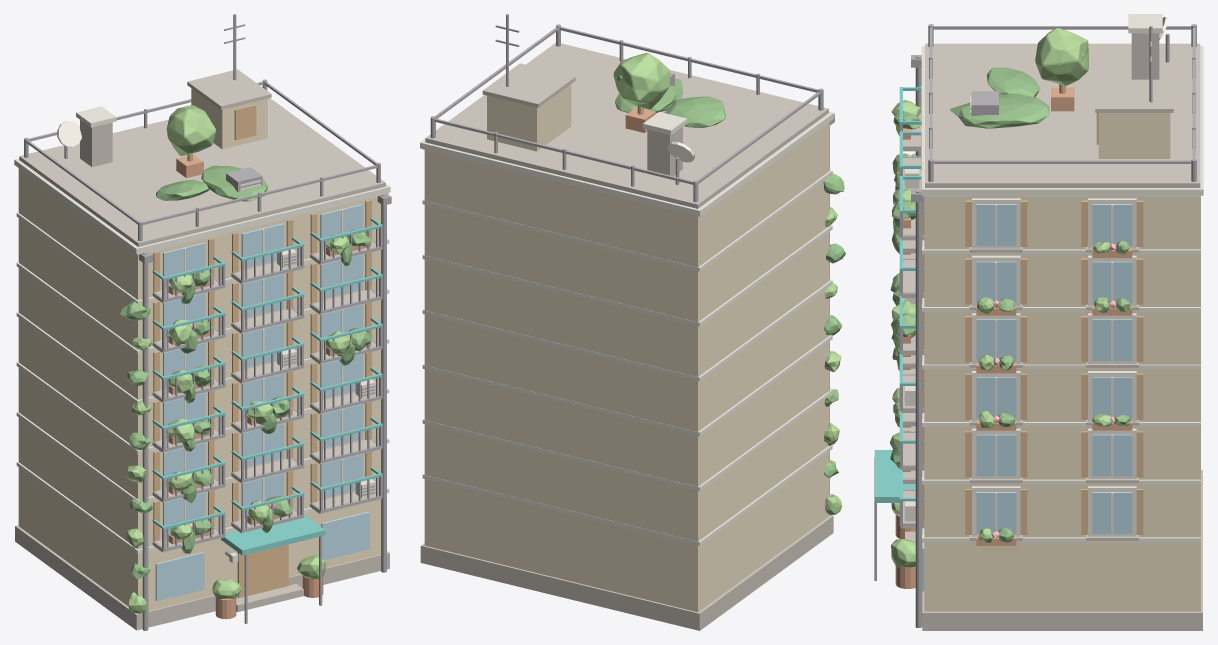
The model's file is Building_Apartment_E.fbx.
3 renders of one model, left to right at view 1: azimuth 30°, elevation 25°; view 2: azimuth 150°, elevation 25°; view 3: azimuth 270°, elevation 25°, orthographic. The views are drawn at different scales.
Visible parts, largest first — view 1: Building_Apartment_E, Building_Apartment_E_Veg; view 2: Building_Apartment_E, Building_Apartment_E_Veg; view 3: Building_Apartment_E, Building_Apartment_E_Veg.
Part boxes in pixels (x1=…): Building_Apartment_E: x1=14, y1=14, x2=391, y2=630; Building_Apartment_E_Veg: x1=120, y1=105, x2=371, y2=619; Building_Apartment_E: x1=420, y1=14, x2=834, y2=630; Building_Apartment_E_Veg: x1=613, y1=53, x2=845, y2=515; Building_Apartment_E: x1=874, y1=14, x2=1203, y2=630; Building_Apartment_E_Veg: x1=890, y1=28, x2=1132, y2=588.
Size of the model in its own units: 6.8 by 11.43 by 5.95.
